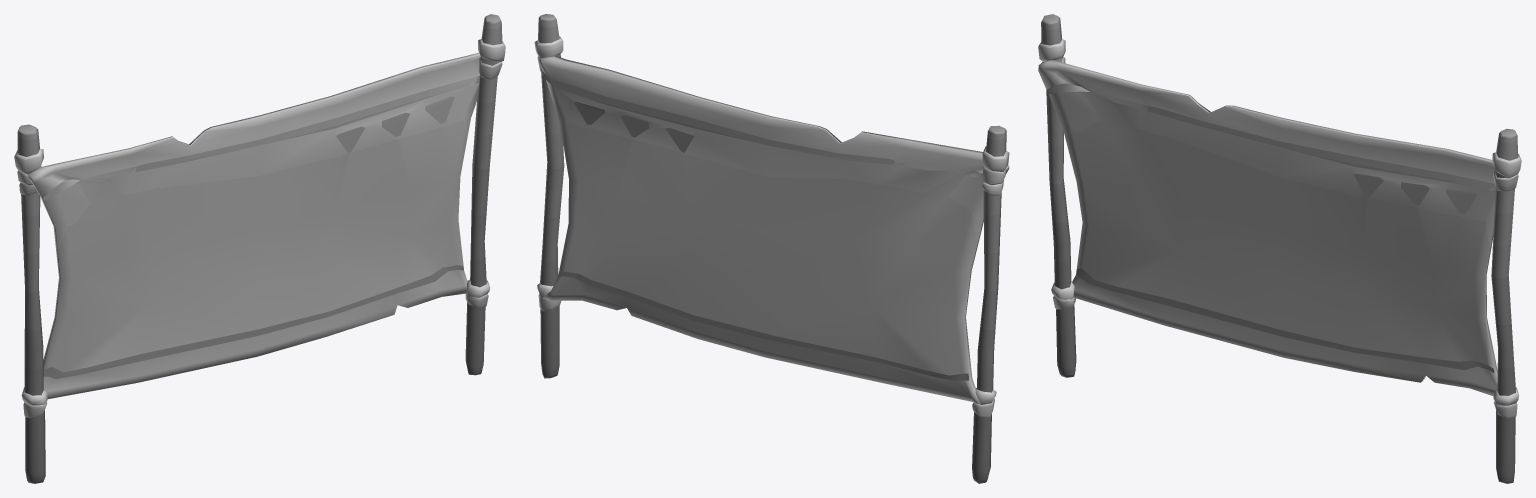
Rendered from PropScreenRed.glb.
The picture shows the model from 3 angles, left to right: view 1: azimuth 30°, elevation 25°; view 2: azimuth 150°, elevation 25°; view 3: azimuth 330°, elevation 25°; orthographic projection. The views are drawn at different scales.
Visible parts, largest first — view 1: PropScreenRed; view 2: PropScreenRed; view 3: PropScreenRed.
Boxes of the visible parts, x1=… form: PropScreenRed: x1=14, y1=14, x2=505, y2=483; PropScreenRed: x1=534, y1=14, x2=1009, y2=483; PropScreenRed: x1=1038, y1=14, x2=1521, y2=483.
Size of the model in its own units: 35.56 by 25.27 by 2.65.
1 material, 1 textured.
